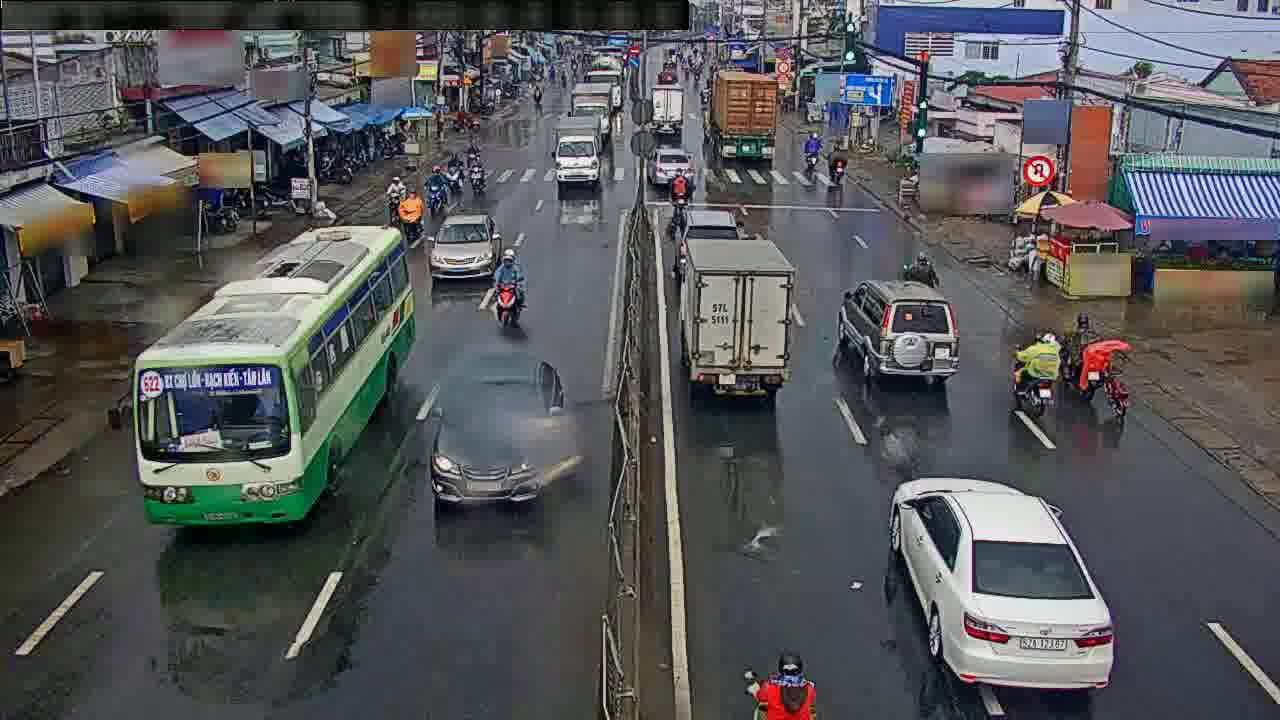14: (143, 230, 406, 522)
8: (679, 239, 789, 395), (705, 68, 775, 168), (552, 113, 602, 191)
container: (884, 475, 1115, 683), (432, 357, 566, 507), (840, 277, 962, 386), (650, 145, 698, 190)
motorbike: (1067, 319, 1122, 408), (748, 654, 812, 720), (1011, 329, 1054, 422), (488, 249, 535, 328), (903, 245, 936, 287), (398, 191, 426, 236), (666, 168, 691, 209), (384, 177, 408, 219), (421, 165, 443, 209), (822, 146, 847, 184), (801, 133, 820, 169), (446, 152, 461, 189), (470, 159, 484, 188)
